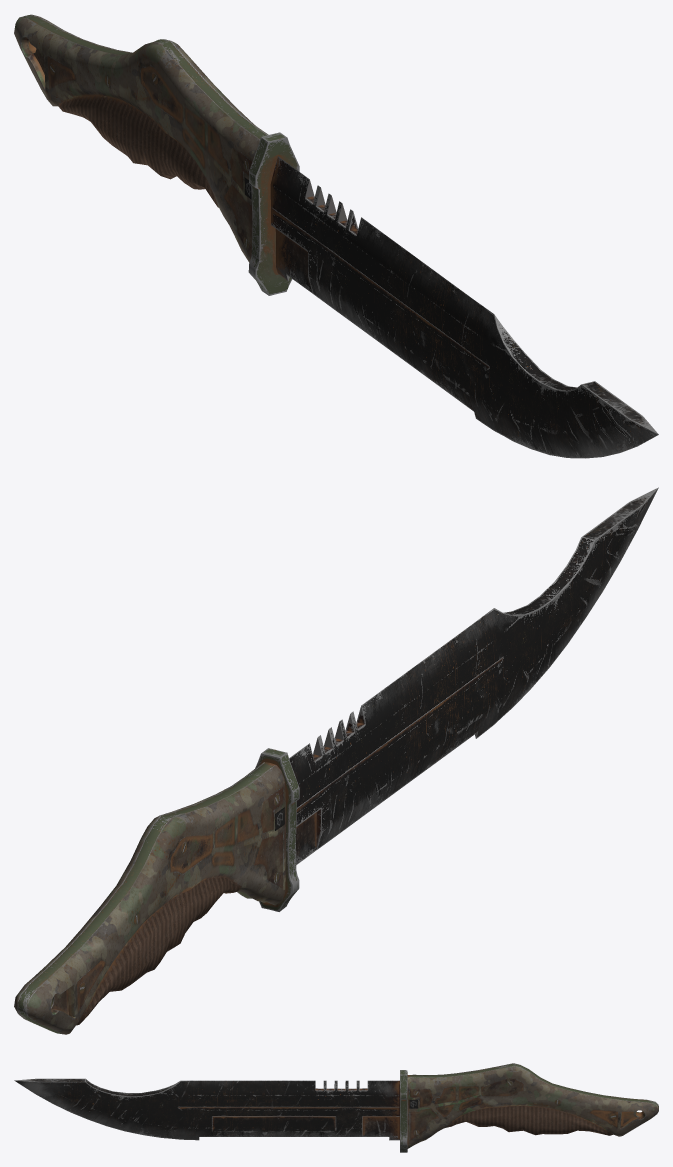
3 renders of one model, top to bottom at view 1: azimuth 30°, elevation 25°; view 2: azimuth 150°, elevation 25°; view 3: azimuth 270°, elevation 25°, orthographic. The views are drawn at different scales.
Parts seen in each view (by area): view 1: PM3D_knife_retopo:knifew_low_0; view 2: PM3D_knife_retopo:knifew_low_0; view 3: PM3D_knife_retopo:knifew_low_0.
Boxes of the visible parts, left/top/right/bottom form: PM3D_knife_retopo:knifew_low_0: left=14, top=14, right=658, bottom=458; PM3D_knife_retopo:knifew_low_0: left=14, top=487, right=658, bottom=1034; PM3D_knife_retopo:knifew_low_0: left=14, top=1063, right=658, bottom=1152.
Size of the model in its own units: 0.00221 by 0.00816 by 0.0554.
Materials: 1 (1 with a texture image).
